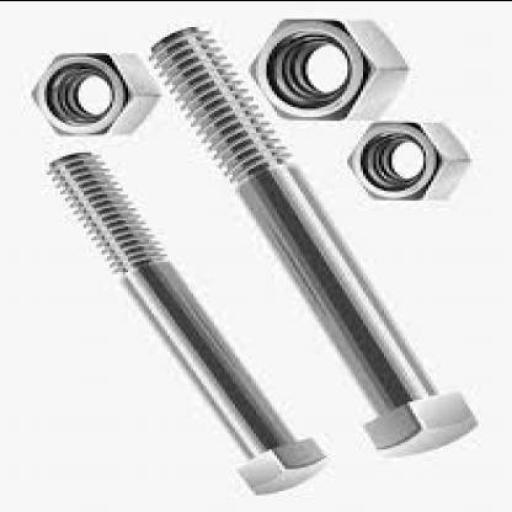metal: (146, 28, 473, 456), (41, 152, 327, 498), (248, 20, 406, 119), (26, 52, 160, 135), (344, 124, 468, 201)
